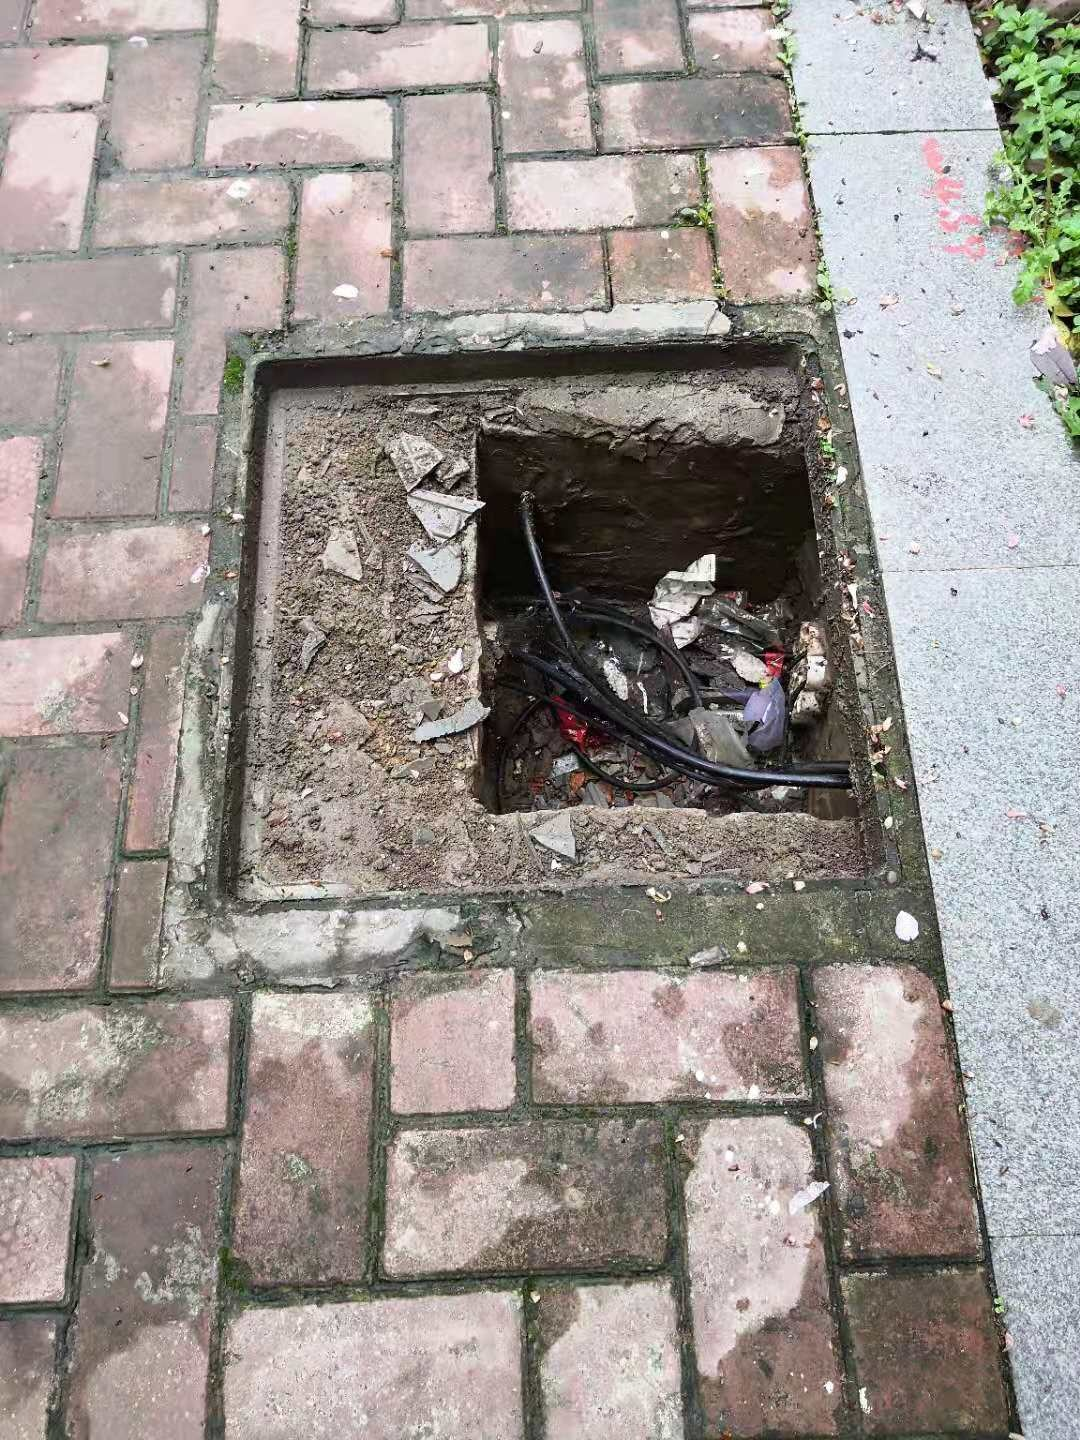broke: (199, 327, 916, 909)
